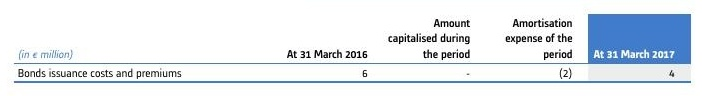table: (0, 0, 702, 96)
